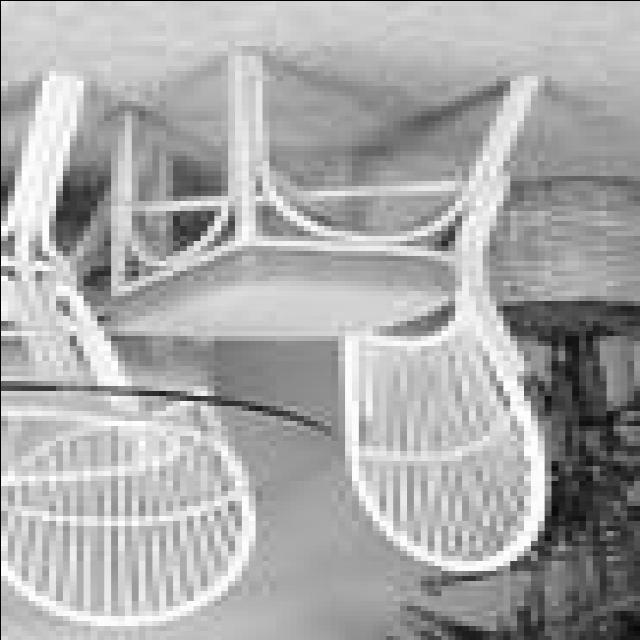chair: (109, 47, 571, 573), (1, 126, 270, 625)
